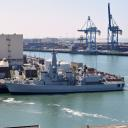Fragata: (5, 46, 127, 97)
